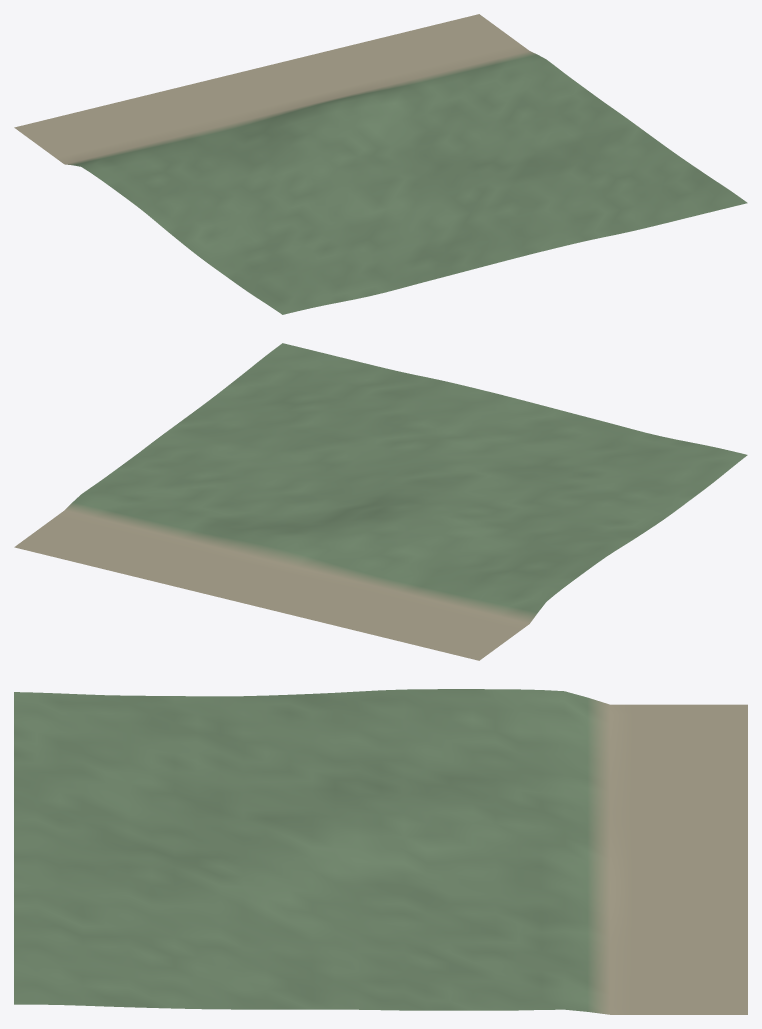
3 renders of one model, top to bottom at view 1: azimuth 30°, elevation 25°; view 2: azimuth 150°, elevation 25°; view 3: azimuth 270°, elevation 25°, orthographic. The views are drawn at different scales.
Parts seen in each view (by area): view 1: Terrain-col; view 2: Terrain-col; view 3: Terrain-col.
Boxes of the visible parts, left/top/right/bottom form: Terrain-col: left=14, top=14, right=747, bottom=314; Terrain-col: left=14, top=343, right=747, bottom=660; Terrain-col: left=14, top=689, right=747, bottom=1014.
Bounding box in the file's own units: 256 × 7 × 256.
